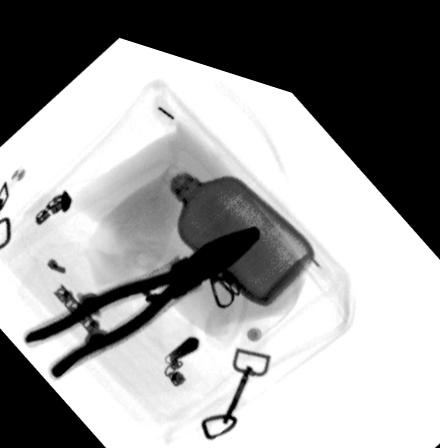Pliers: (21, 208, 262, 377)
